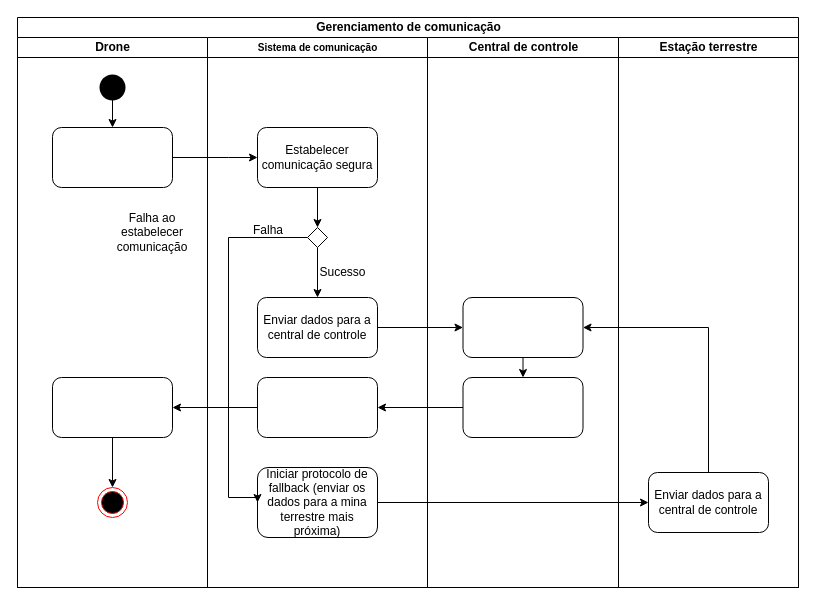
Some shapes in this 816 by 605 pixel diagram are drawn without their labels. The shapes that lost their labels are listed below. From the top down, each one's centre as x and y in pixels, then its label:
At [112,157]: "Iniciar comunicação".
At [522,327]: "Receber dados".
At [112,407]: "Receber e executar comandos".
At [317,407]: "Transmitir comandos em tempo real".
At [522,407]: "Enviar comandos para o drone".
